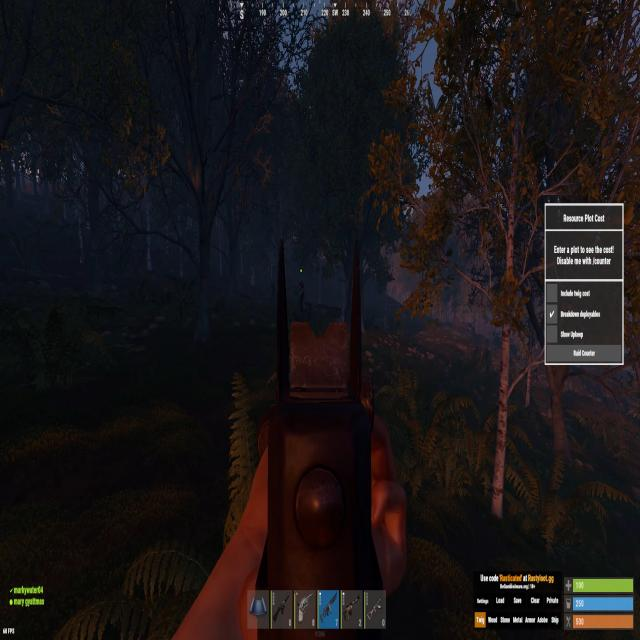Player: (299, 278, 305, 314)
